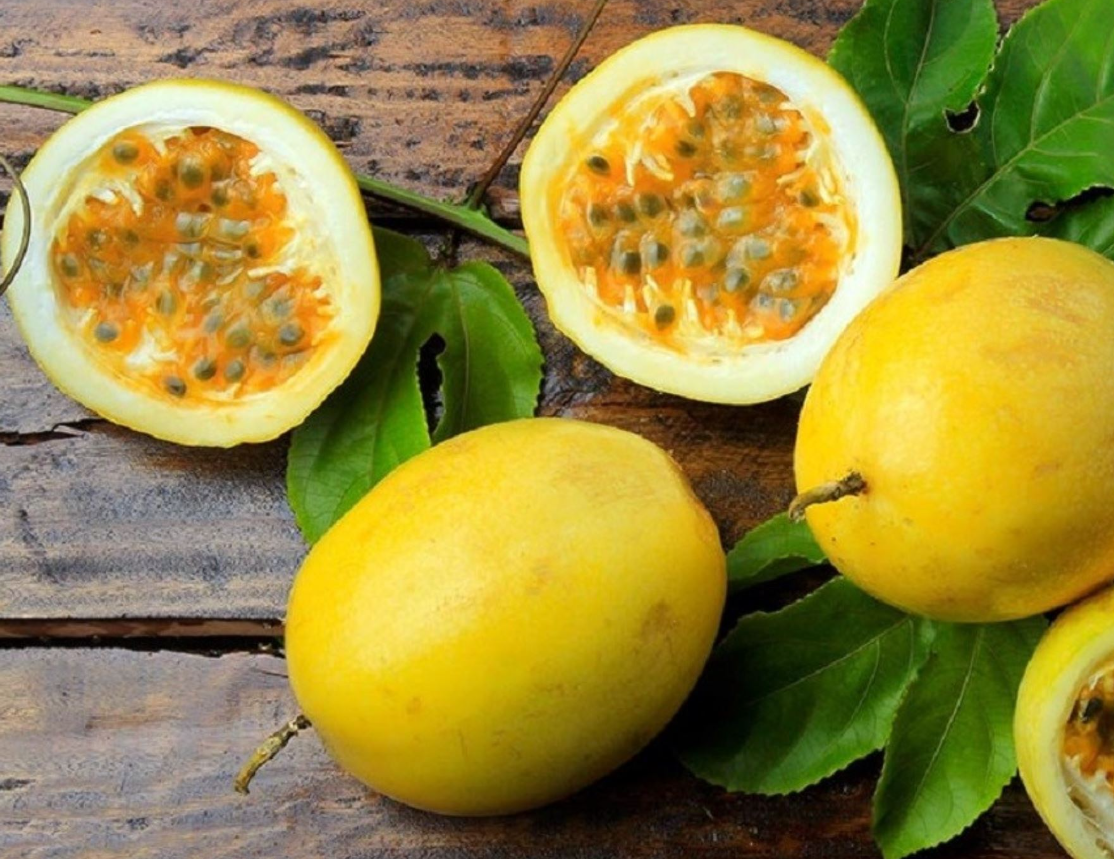maracuya: (272, 413, 736, 823), (783, 231, 1114, 634)
